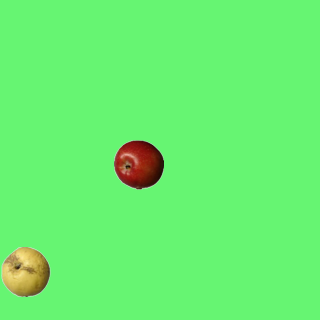Apple Braeburn: (113, 139, 163, 189)
Apple Golden 1: (0, 246, 50, 296)
